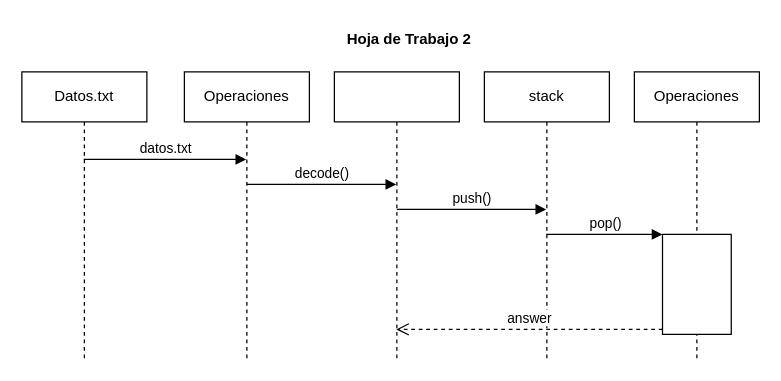
This 781x381 diagram has some shape labels left out. The shapes that lost their labels are listed below. From the top down, each one's box as (x1, y1, x2, y2) in pixels, then its label:
(333, 71, 459, 359): Calcu
(661, 233, 731, 334): operar()
